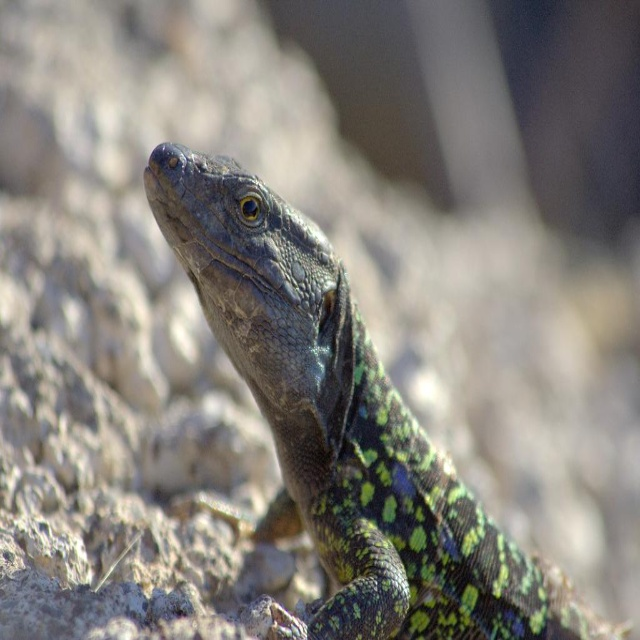Lizard: (143, 141, 639, 640)
